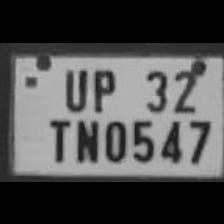0: (99, 115, 127, 161)
2: (168, 60, 204, 110)
3: (140, 63, 168, 111)
4: (157, 113, 183, 164)
5: (129, 113, 155, 163)
7: (182, 113, 212, 164)
N: (70, 115, 100, 161)
P: (87, 63, 119, 111)
T: (43, 113, 74, 164)
U: (58, 63, 90, 109)
